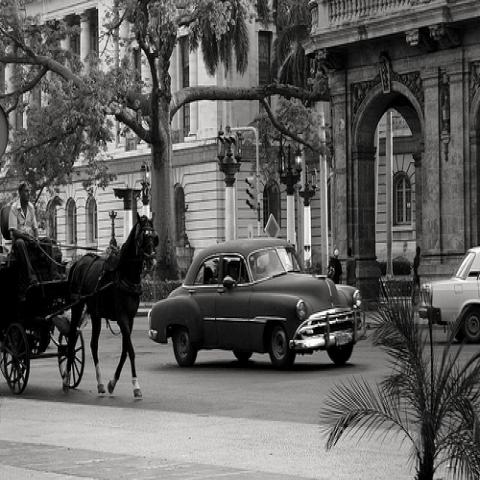car: (144, 238, 360, 371), (418, 246, 479, 346)
